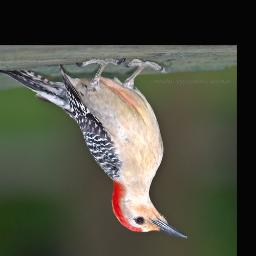Woodpecker: (0, 57, 192, 242)
